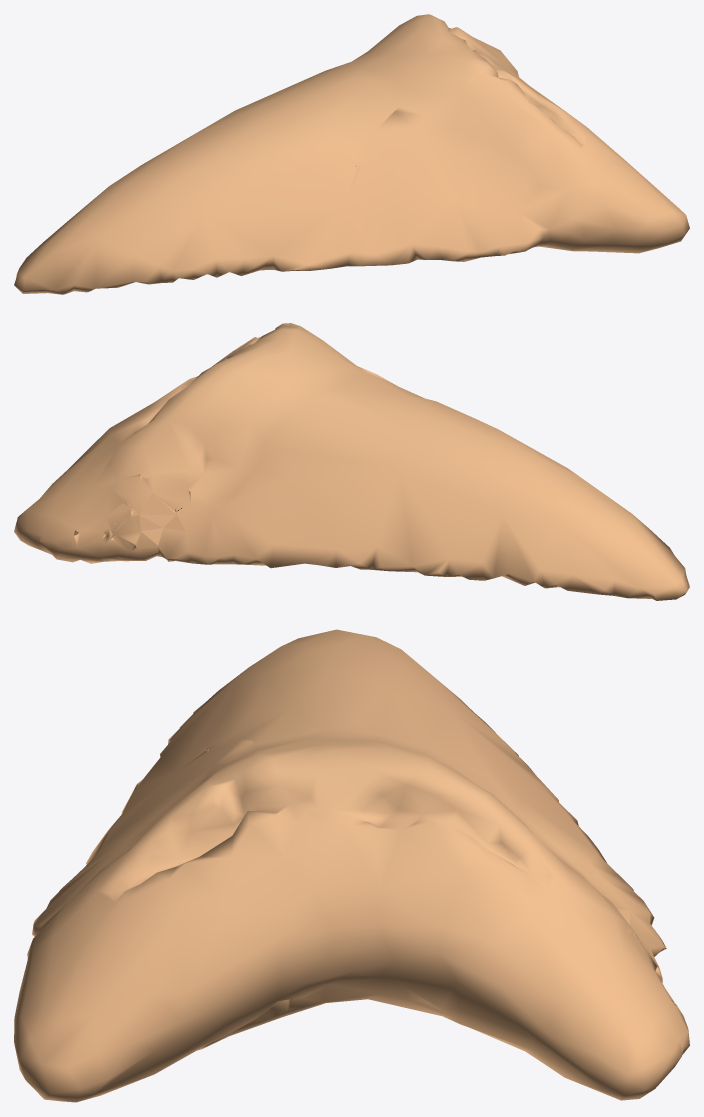
File: Fossil7.fbx
The picture shows the model from 3 angles, top to bottom: view 1: azimuth 30°, elevation 25°; view 2: azimuth 150°, elevation 25°; view 3: azimuth 270°, elevation 25°; orthographic projection. The views are drawn at different scales.
Visible parts, largest first — view 1: fossil16; view 2: fossil16; view 3: fossil16.
Part boxes in pixels (x1,y1,x2,y2): fossil16: (14, 14, 689, 294); fossil16: (14, 323, 689, 600); fossil16: (14, 629, 689, 1102).
Bounding box in the file's own units: 95.92 × 27.4 × 64.41.
